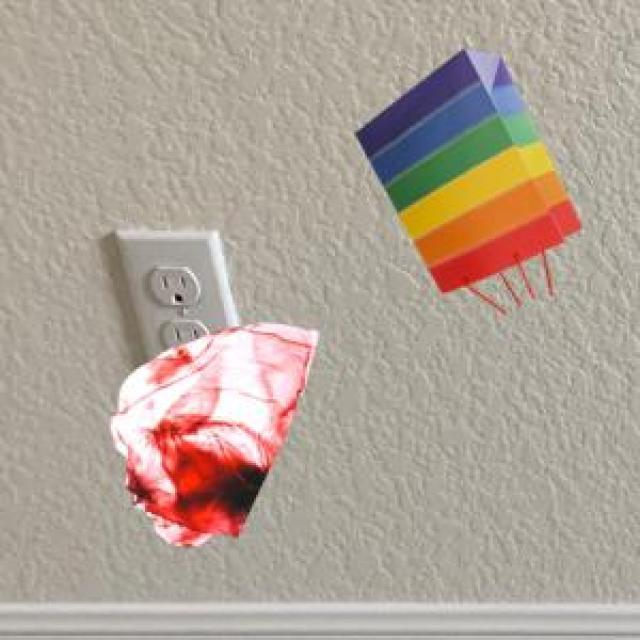paper: (352, 45, 578, 288)
